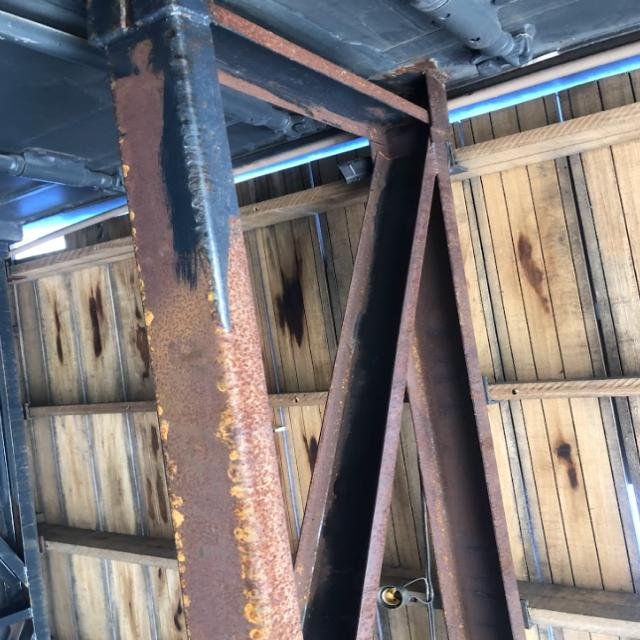corrosion: (110, 0, 529, 640)
